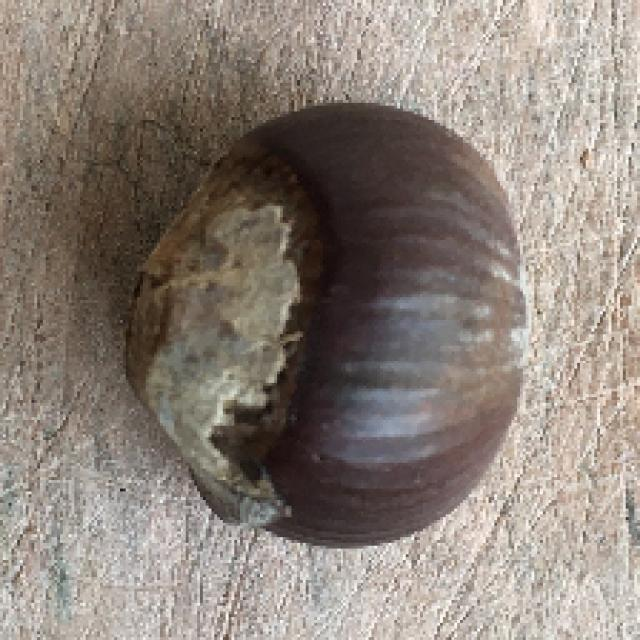damagedHazelnut: (133, 100, 536, 550)
